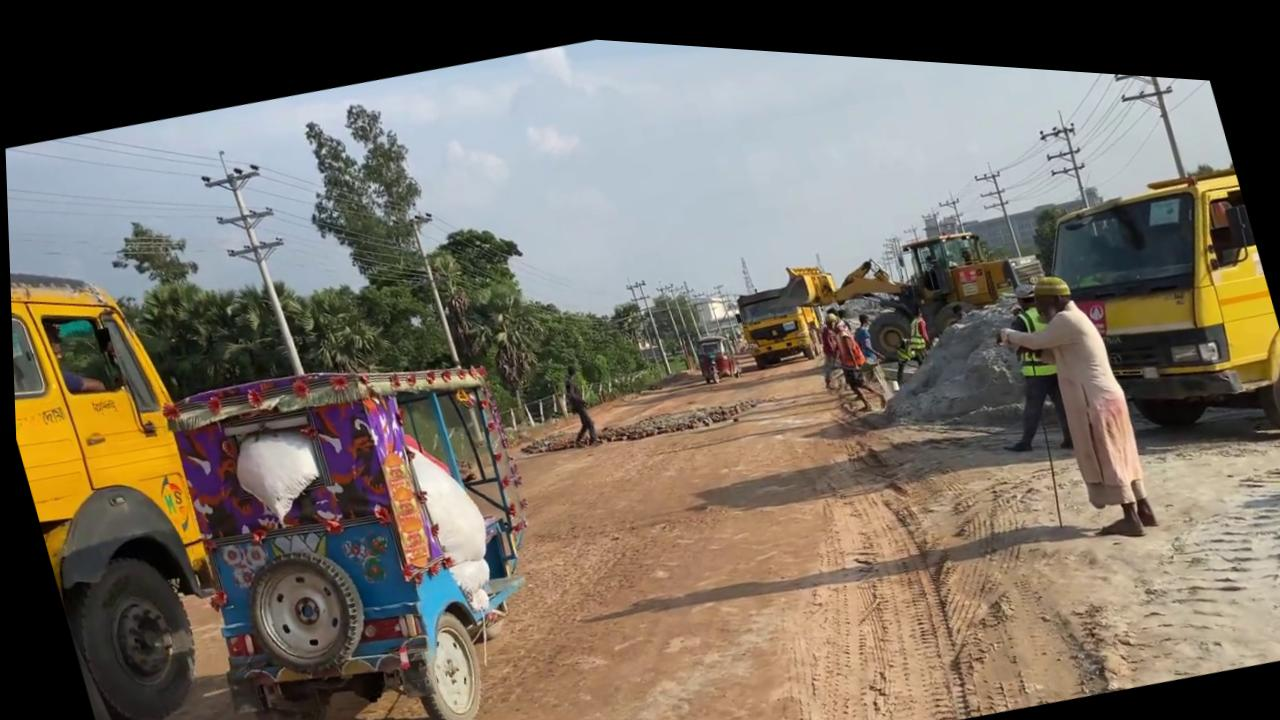Garbage: (853, 265, 1062, 443)
Muddy road: (511, 366, 779, 467)
Tree: (4, 154, 582, 720), (7, 231, 255, 720), (1025, 136, 1280, 468), (816, 197, 1039, 368), (762, 224, 929, 374), (728, 266, 825, 365), (764, 243, 844, 325)
